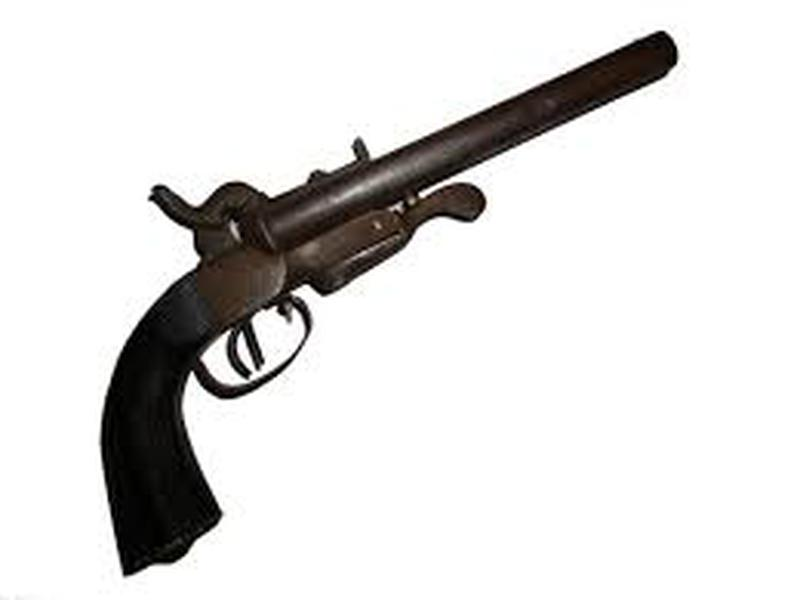gun: (70, 27, 694, 577)
